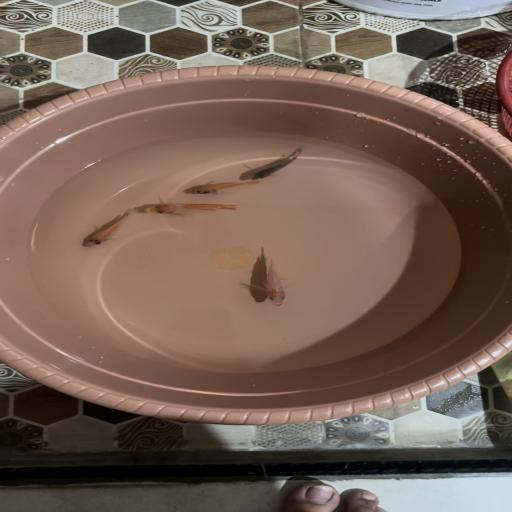nila: (248, 252, 297, 311), (77, 207, 135, 253), (244, 148, 308, 184), (141, 200, 242, 220), (185, 179, 264, 198)
